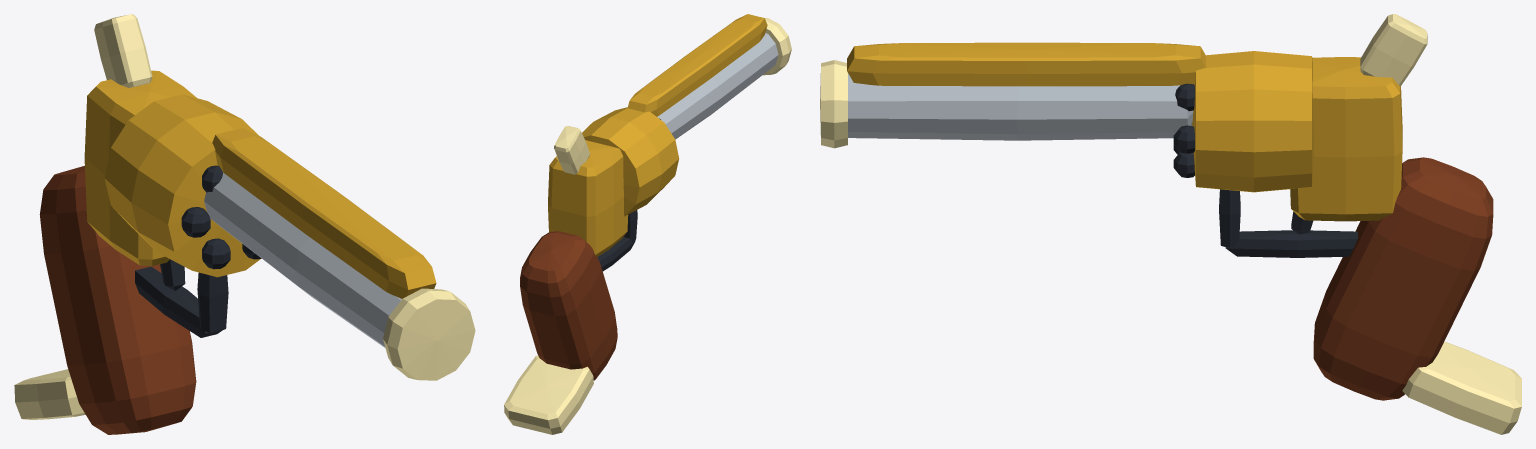
The model's file is g-pistol-2.glb.
3 views of the same model, side by side, from view 1: azimuth 30°, elevation 25°; view 2: azimuth 150°, elevation 25°; view 3: azimuth 270°, elevation 25° (orthographic). The views are drawn at different scales.
Visible parts, largest first — view 1: gun; view 2: gun; view 3: gun.
Part boxes in pixels (x1=…): gun: x1=14, y1=14, x2=475, y2=434; gun: x1=504, y1=14, x2=791, y2=434; gun: x1=820, y1=14, x2=1521, y2=434.
Size of the model in its own units: 0.15 by 0.4593 by 0.7278.
